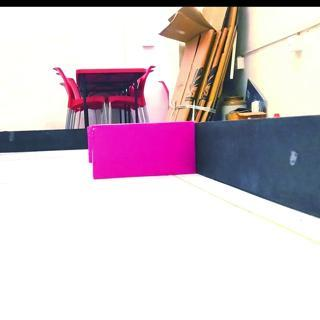xparking: (85, 123, 197, 180)
